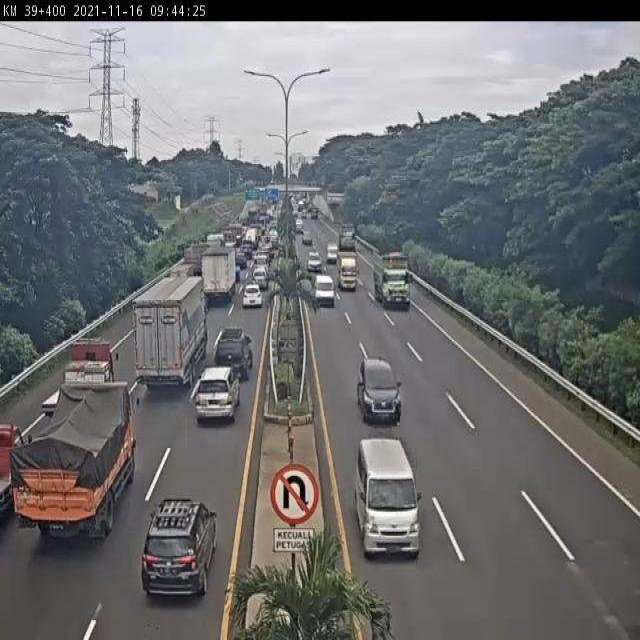car: (141, 499, 218, 600), (358, 441, 422, 556), (355, 356, 404, 425), (193, 369, 238, 423), (214, 327, 254, 380), (314, 275, 335, 305), (243, 285, 261, 308), (252, 268, 266, 288)
small truck: (40, 339, 117, 413), (338, 252, 360, 288)
truck-l-: (133, 274, 209, 394), (371, 251, 412, 309)
truck-m-: (12, 385, 137, 547), (202, 241, 237, 300)
